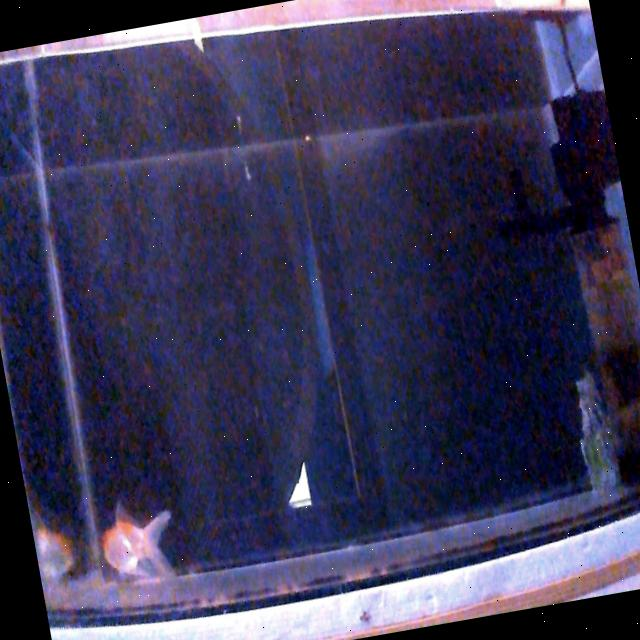fish: (96, 498, 182, 588), (33, 518, 80, 584)
